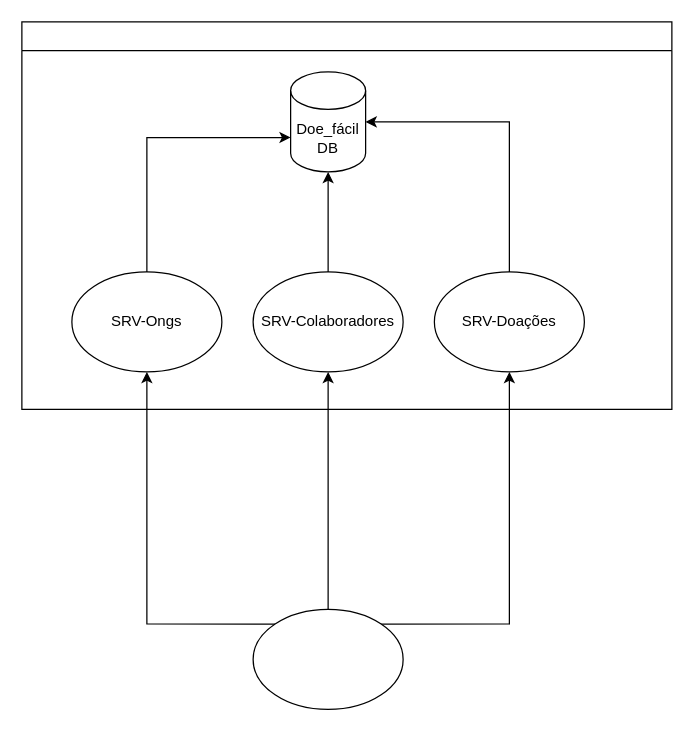
This 694x731 diagram has some shape labels left out. Here are the shapes that lost their labels. From the top down, the box of each, then its label:
(21, 21, 672, 409): B ACK-END
(252, 608, 403, 709): SPA-DoeFacil
